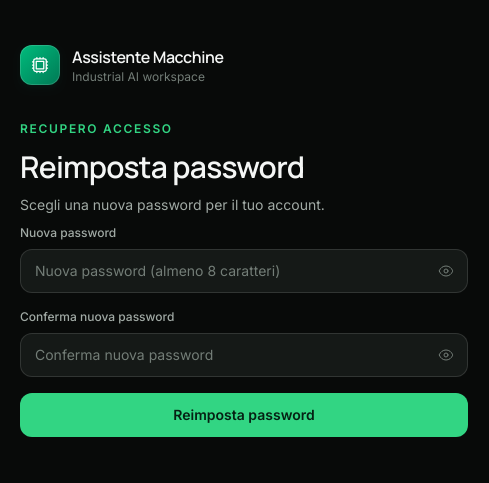
Test: pagina di reset password › mostra l'errore del backend per un token scaduto o non valido
The width and height of the screenshot is (489, 483).
Step 1. Type "BrandNewPass456" into the password field with placeholder "Nuova password (almeno 8 caratteri)" → (244, 271), box 20,249 -> 468,293
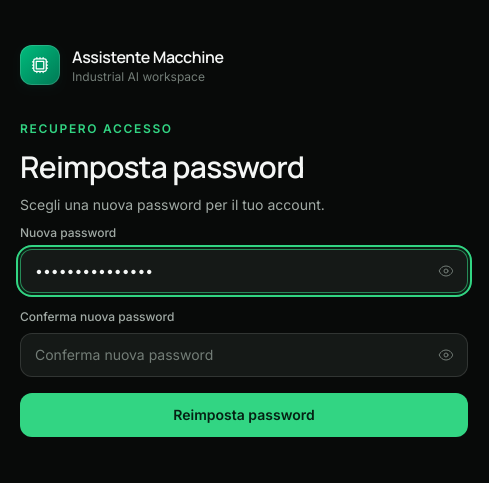
Step 2. Type "BrandNewPass456" into the password field with placeholder "Conferma nuova password" → (244, 355), box 20,333 -> 468,377
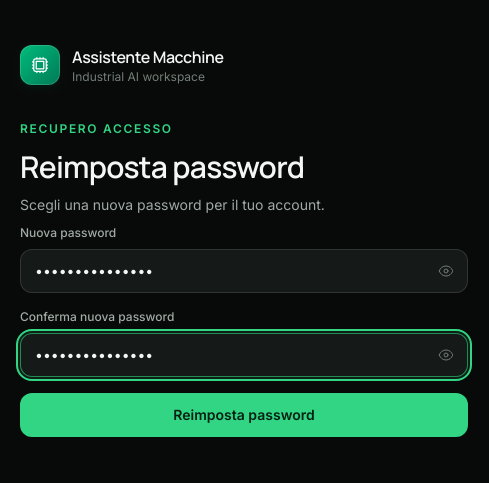
Step 3. Click the button "Reimposta password" → (244, 415), box 20,393 -> 468,437
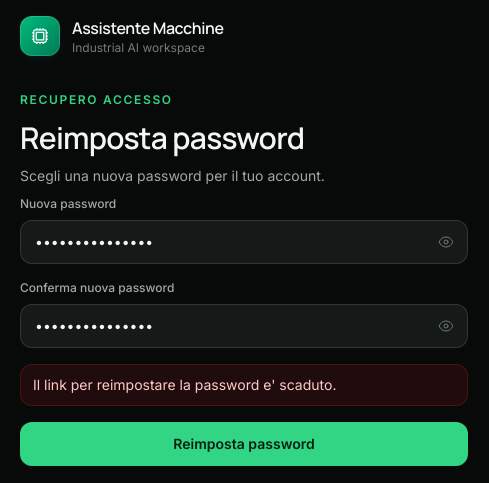
Expected: the text "Il link per reimpostare la password e' scaduto." is shown, 20,364 -> 468,406
